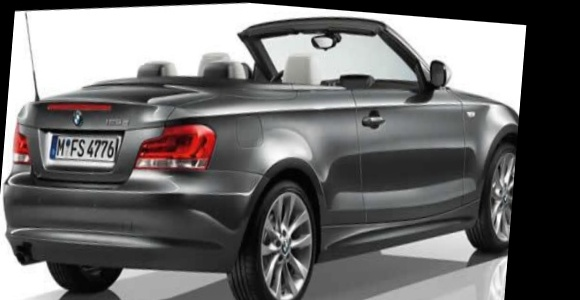car: (0, 0, 526, 300)
